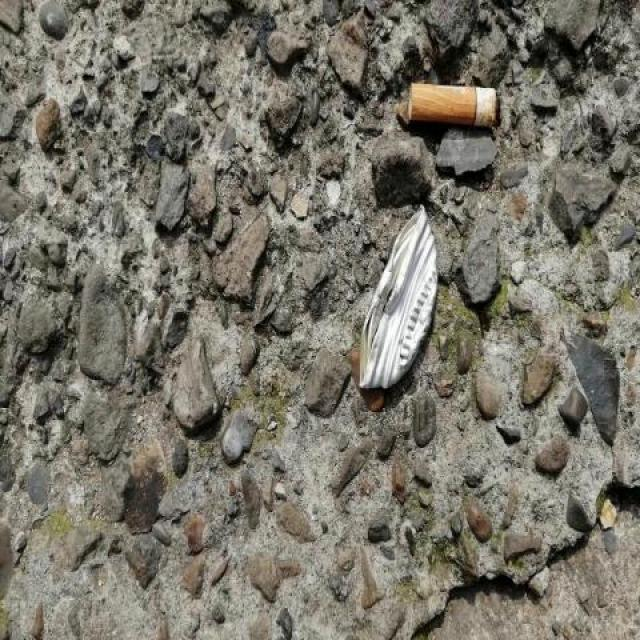non-organic waste: (399, 74, 504, 138)
